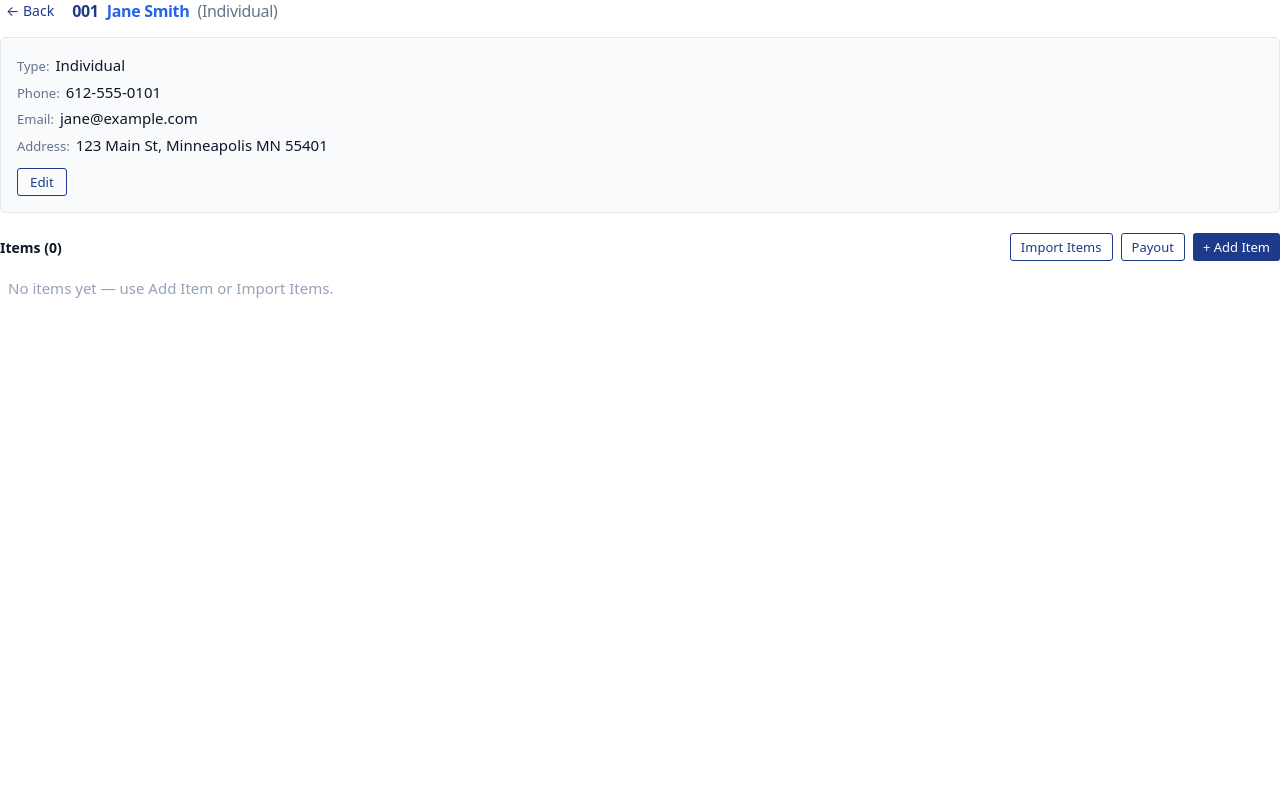
Test case: SellerDetailPage › blocks saving a vendor seller without a company
The image size is (1280, 786).
Click the button "Edit" at (42, 182), box [17, 168, 67, 196]
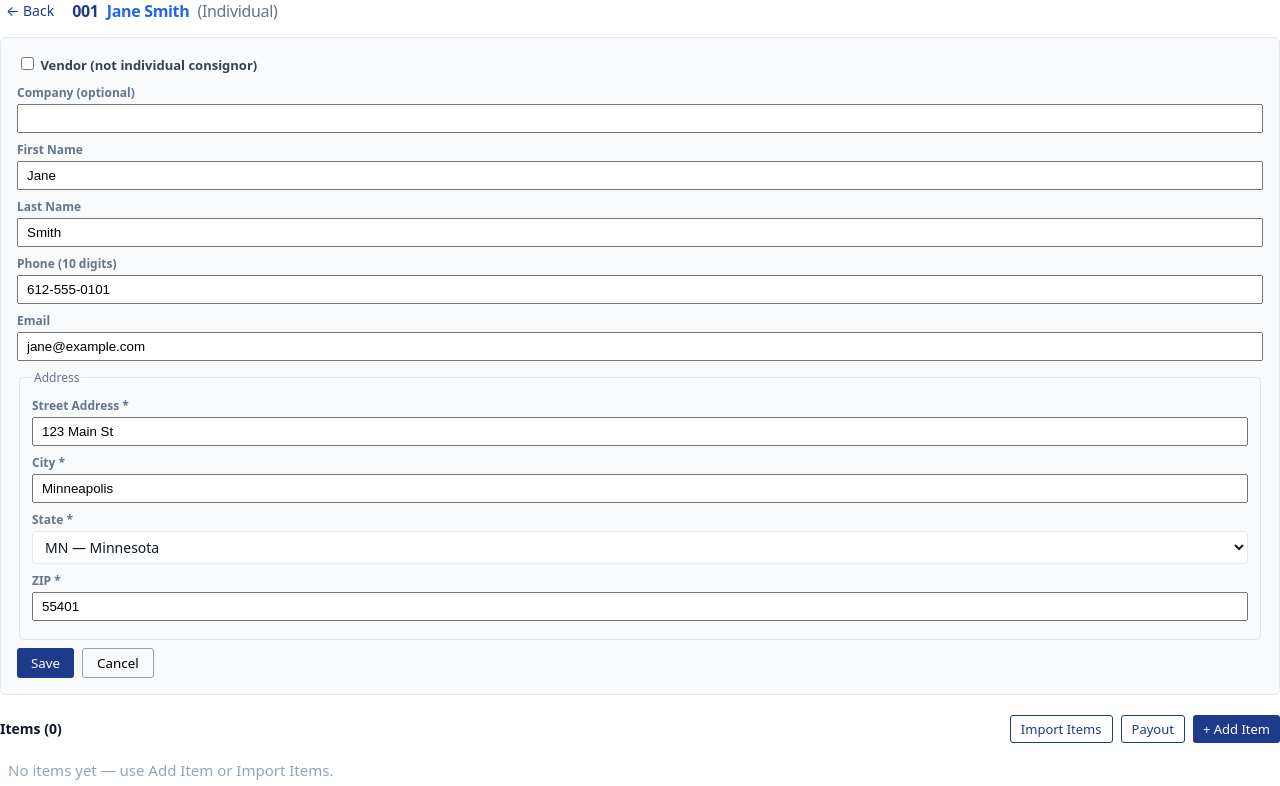
Click the checkbox labelled "Vendor (not individual consignor)" at (28, 64), box [21, 57, 34, 70]
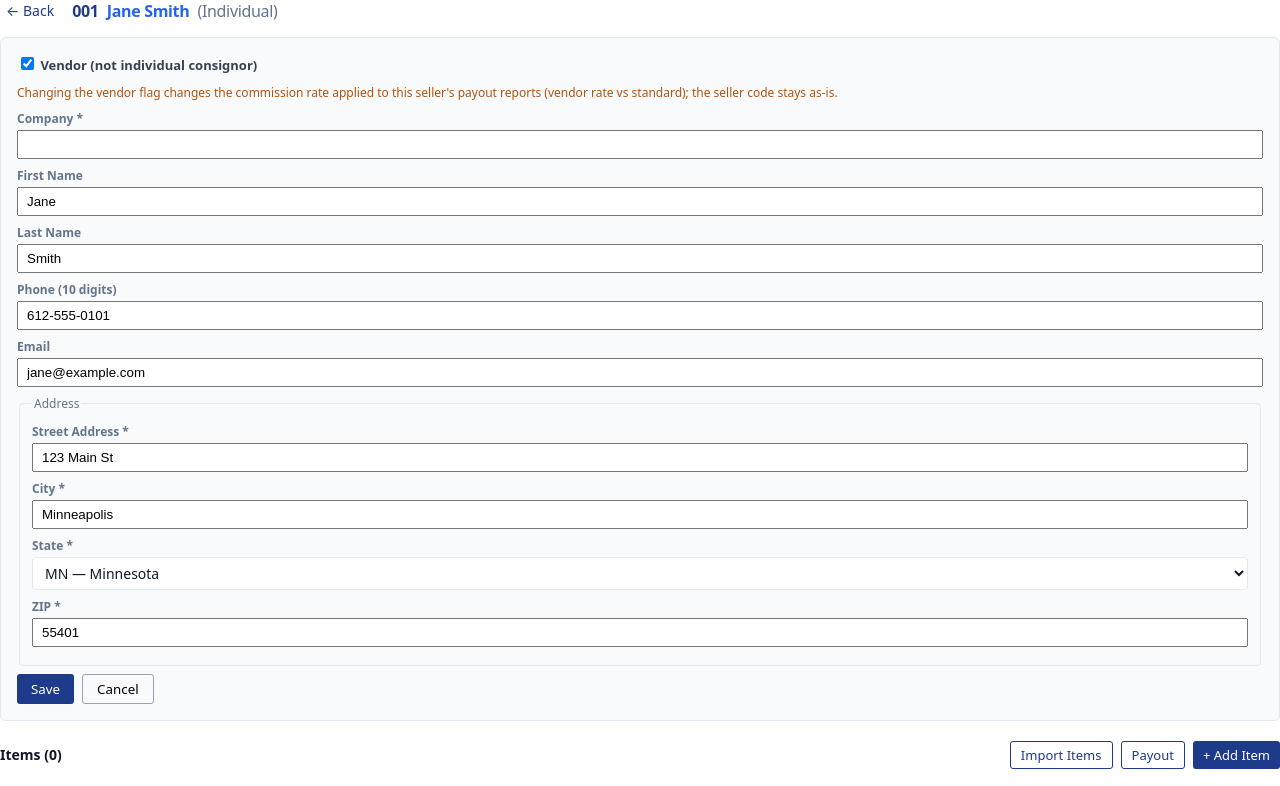
Click the button "Save" at (46, 688), box [17, 674, 74, 704]
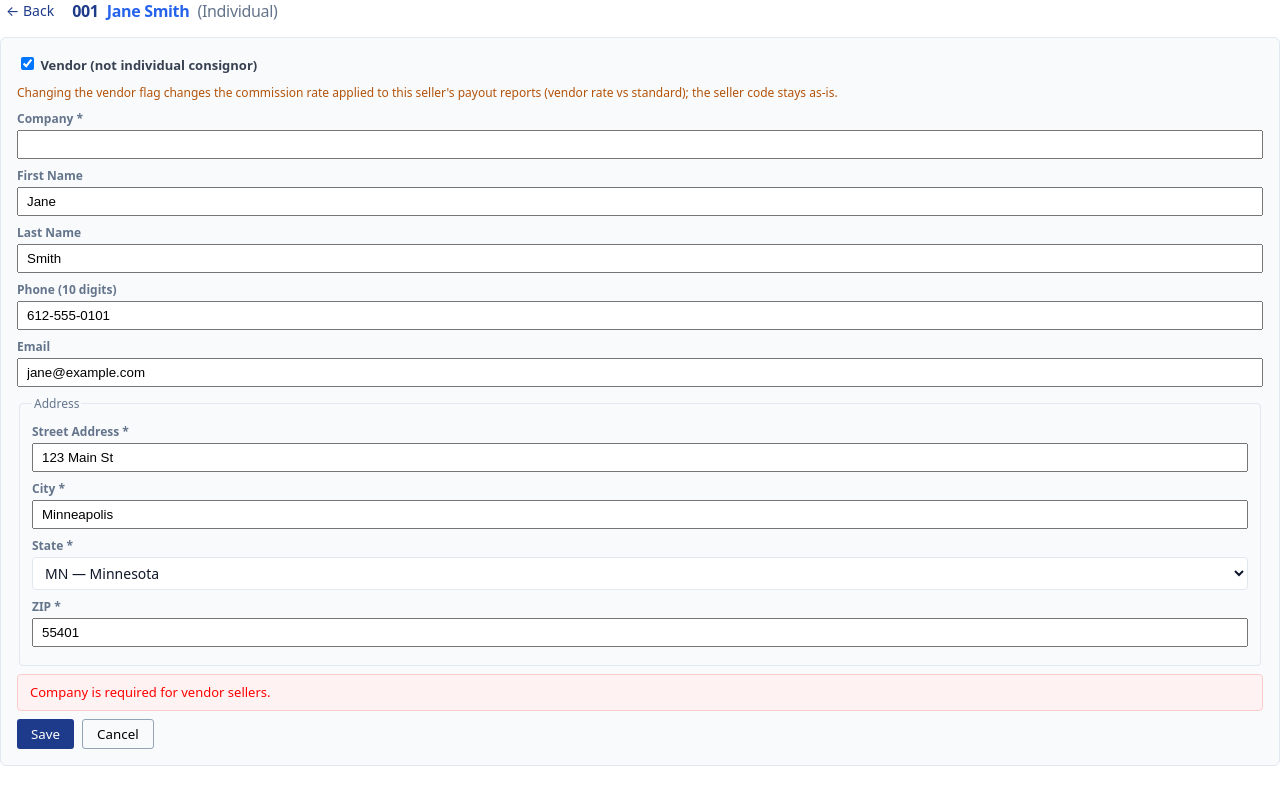
Now the message reads "Company is required for vendor sellers.", box [30, 682, 270, 700]
